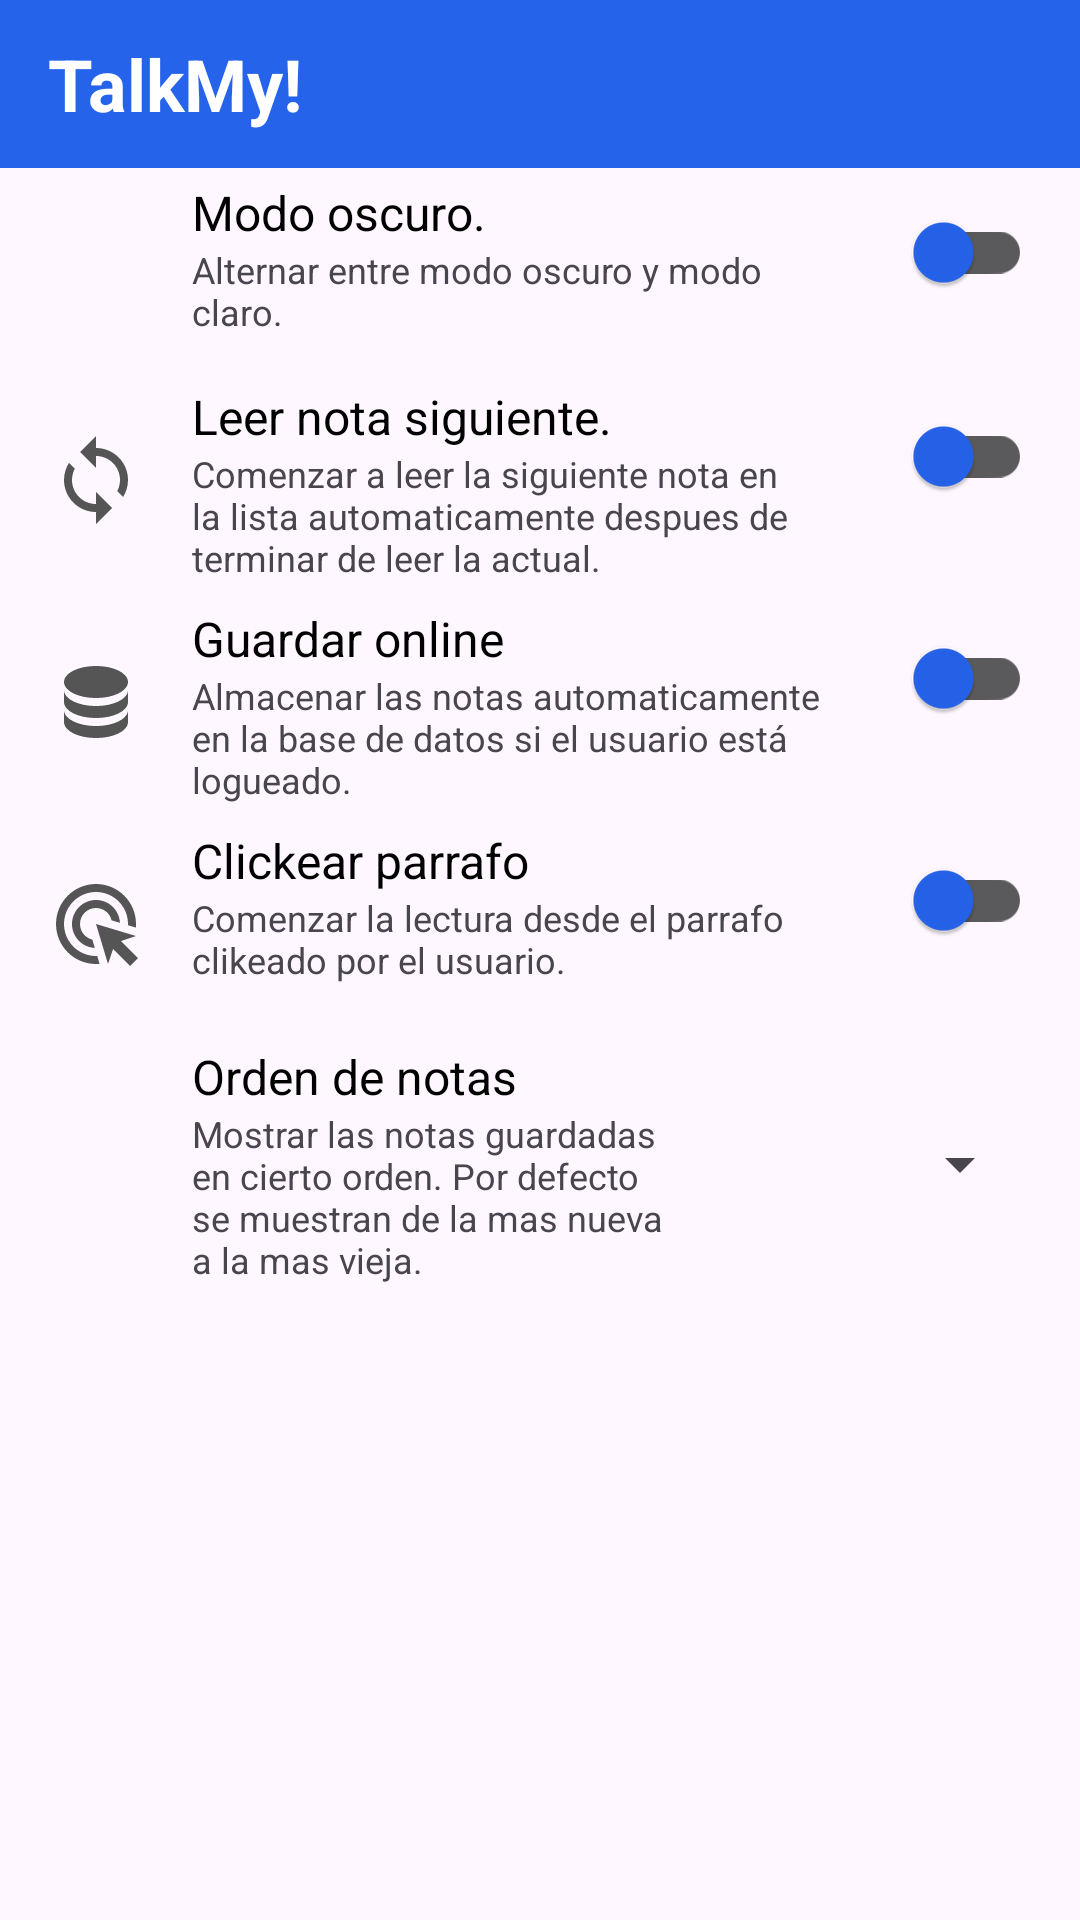

Icons on this 1080 × 1920 Android screen, each with the point to tap as point (x, y):
database: point (96, 702)
